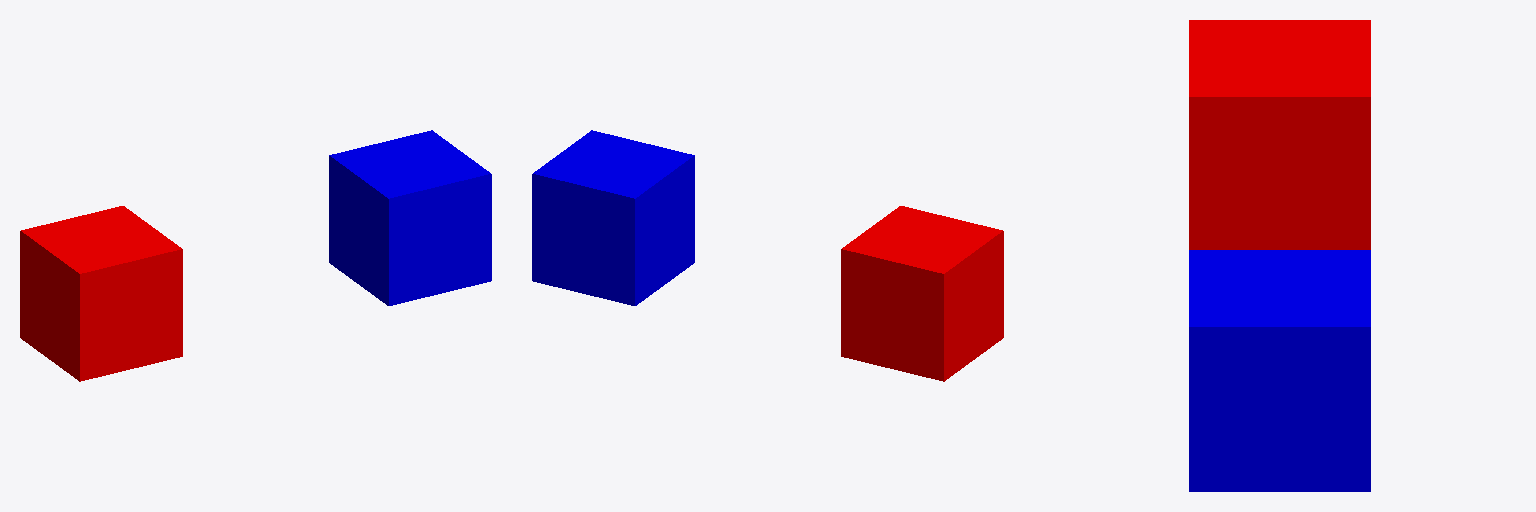
robot.urdf — two_cube_joint:
<?xml version="1.0"?>
<robot name="two_cube_joint">
  <!-- Base link (fixed cube) -->
  <link name="base">
    <visual>
      <geometry>
        <box size="0.1 0.1 0.1"/>
      </geometry>
      <origin xyz="0 0 0" rpy="0 0 0"/>
      <material name="red">
        <color rgba="1 0 0 1"/>
      </material>
    </visual>
    <collision>
      <geometry>
        <box size="0.1 0.1 0.1"/>
      </geometry>
      <origin xyz="0 0 0" rpy="0 0 0"/>
    </collision>
    <inertial>
      <mass value="1.0"/>
      <inertia ixx="0.00667" ixy="0.0" ixz="0.0" iyy="0.00667" iyz="0.0" izz="0.00667"/>
      <origin xyz="0 0 0" rpy="0 0 0"/>
    </inertial>
  </link>

  <!-- Moving link (cube connected by joint) -->
  <link name="moving">
    <visual>
      <geometry>
        <box size="0.1 0.1 0.1"/>
      </geometry>
      <origin xyz="0.2 0 0" rpy="0 0 0"/>
      <material name="blue">
        <color rgba="0 0 1 1"/>
      </material>
    </visual>
    <collision>
      <geometry>
        <box size="0.1 0.1 0.1"/>
      </geometry>
      <origin xyz="0.1 0 0" rpy="0 0 0"/>
    </collision>
    <inertial>
      <mass value="1.0"/>
      <inertia ixx="0.00667" ixy="0.0" ixz="0.0" iyy="0.00667" iyz="0.0" izz="0.00667"/>
      <origin xyz="0 0 0" rpy="0 0 0"/>
    </inertial>
  </link>

  <!-- Revolute joint connecting base to moving link -->
  <joint name="joint1" type="revolute">
    <parent link="base"/>
    <child link="moving"/>
    <origin xyz="0.1 0 0" rpy="0 0 0"/>
    <axis xyz="0 0 1"/>
    <limit lower="-1.57" upper="1.57" effort="100" velocity="1.0"/>
  </joint>

</robot>

--- Render facts (derived) ---
3 views of the same robot in one strip: view 1: azimuth 30°, elevation 25°; view 2: azimuth 150°, elevation 25°; view 3: azimuth 270°, elevation 25° (orthographic).
Robot: two_cube_joint — 2 links, 1 joints (1 revolute); root link base; default pose: all joints at 0.
Links seen in each view (by area): view 1: base, moving; view 2: base, moving; view 3: moving, base.
Boxes of the visible links, x1,y1,x2,y2 form: base: (20,206,182,381); moving: (329,130,491,305); base: (841,206,1003,381); moving: (532,130,694,305); moving: (1189,250,1370,491); base: (1189,20,1370,249).
Bounding box of the posed robot: 0.4 × 0.1 × 0.1 m (x, y, z).
Geometry: primitives only (box / cylinder / sphere), no mesh files.
